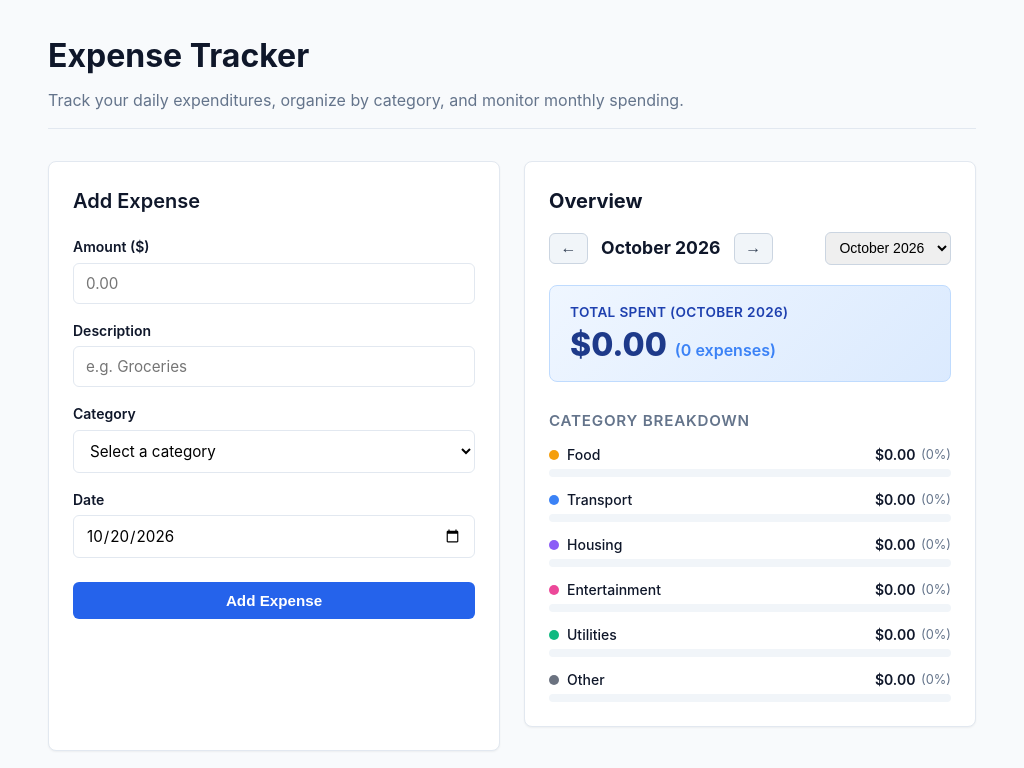
QA Adversarial Test Suite - Issue #3 (UI, Expense Management & LocalStorage Persistence) › 4. Monthly Dashboard Navigation & Boundary Conditions › allows selection from the available months dropdown
The image size is (1024, 768).
Switch to July 2026
Select "July 2026" in the dropdown named "select month". click: point(888, 248)
box: [825,232,951,265]
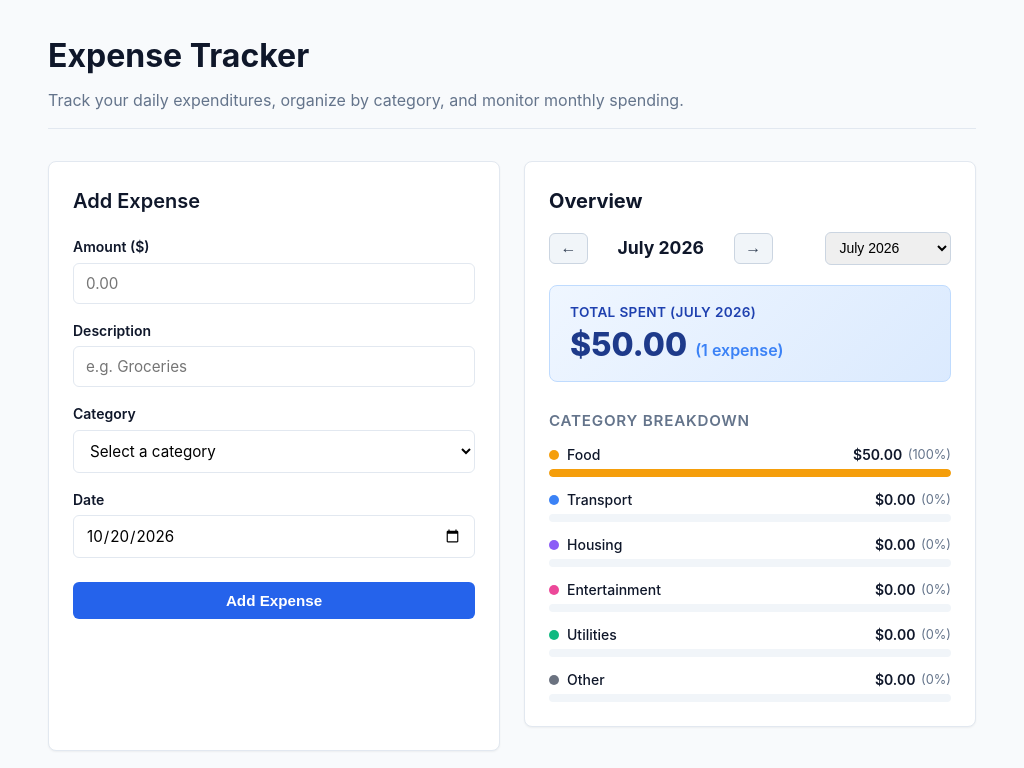
Now the text with class "current-month-display" reads "July 2026", box [618,237,704,258]
Now the text with test id "monthly-total-value" reads "$50.00", box [570,325,687,364]
